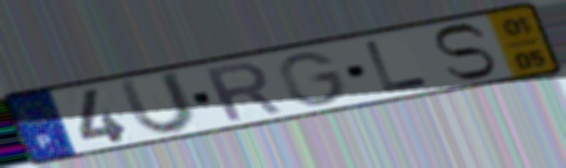4: (74, 85, 132, 146)
G: (275, 50, 351, 109)
L: (361, 38, 433, 94)
R: (199, 59, 288, 125)
S: (429, 21, 500, 82)
U: (114, 68, 201, 137)
